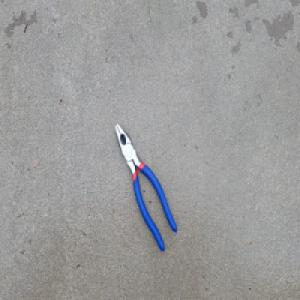Pliers: (115, 122, 179, 253)
